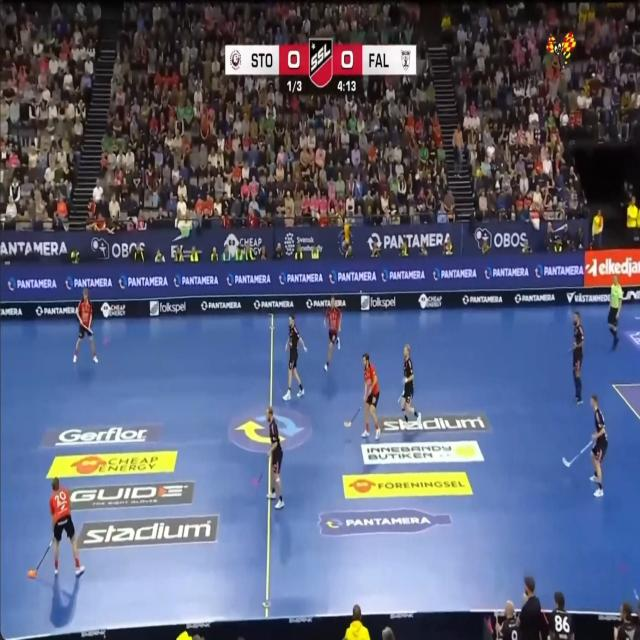Balls: (28, 569, 36, 577)
player: (49, 477, 84, 575), (283, 314, 305, 400), (266, 407, 284, 509), (73, 288, 97, 363), (590, 395, 607, 496), (362, 353, 380, 439), (401, 344, 421, 421), (324, 296, 342, 371), (607, 275, 623, 349), (549, 591, 573, 639), (573, 312, 584, 404), (496, 601, 520, 639)
stick: (28, 540, 52, 577), (562, 441, 592, 466), (343, 407, 361, 426), (83, 324, 93, 336), (633, 588, 640, 600), (256, 472, 263, 484), (398, 390, 403, 402), (404, 382, 405, 384)
